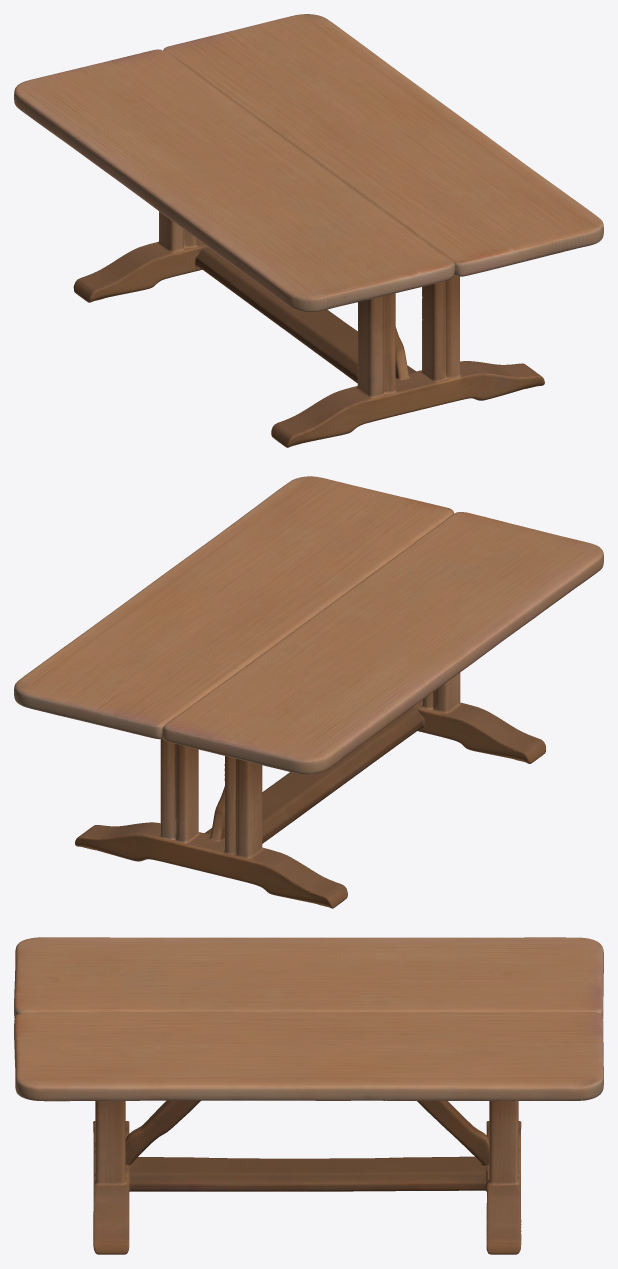
File: detailed_realistic_model_grandoaktable_07.glb
The picture shows the model from 3 angles, top to bottom: view 1: azimuth 30°, elevation 25°; view 2: azimuth 150°, elevation 25°; view 3: azimuth 270°, elevation 25°; orthographic projection.
Parts seen in each view (by area): view 1: tripo_node_32b47e43-f866-4473-a7ab-6e011ccf21dc; view 2: tripo_node_32b47e43-f866-4473-a7ab-6e011ccf21dc; view 3: tripo_node_32b47e43-f866-4473-a7ab-6e011ccf21dc.
Part boxes in pixels (box(x1,y1,x2,y2)): tripo_node_32b47e43-f866-4473-a7ab-6e011ccf21dc: box(14, 14, 603, 447); tripo_node_32b47e43-f866-4473-a7ab-6e011ccf21dc: box(14, 476, 603, 908); tripo_node_32b47e43-f866-4473-a7ab-6e011ccf21dc: box(14, 937, 603, 1254).
Size of the model in its own units: 0.6068 by 0.3422 by 1.
Materials: 1 (1 with a texture image).
